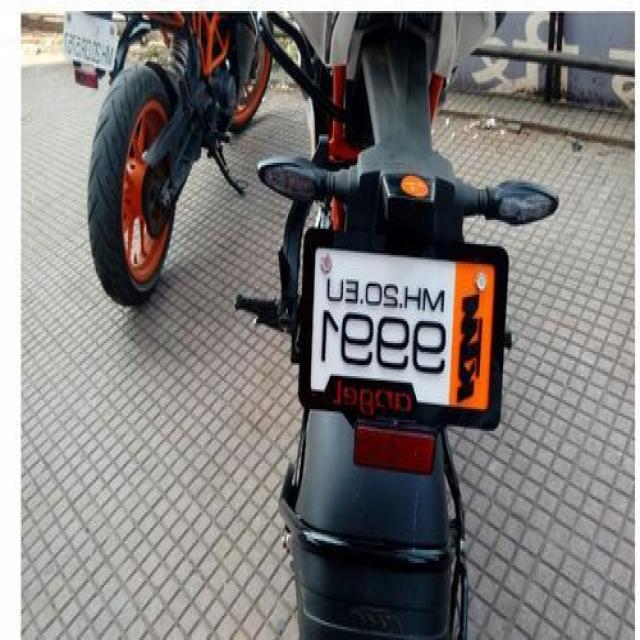number-plate: (268, 239, 512, 424)
